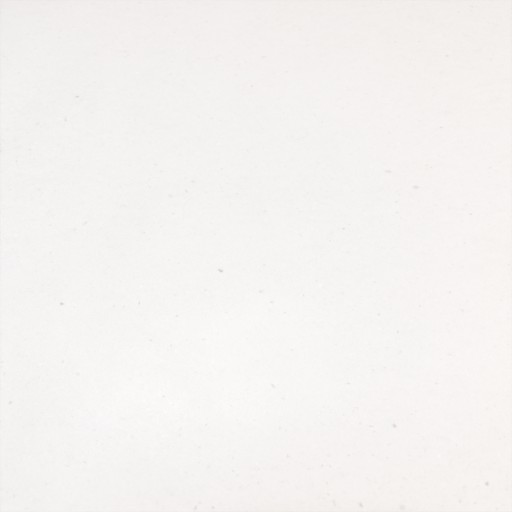lego: (236, 233, 273, 280)
